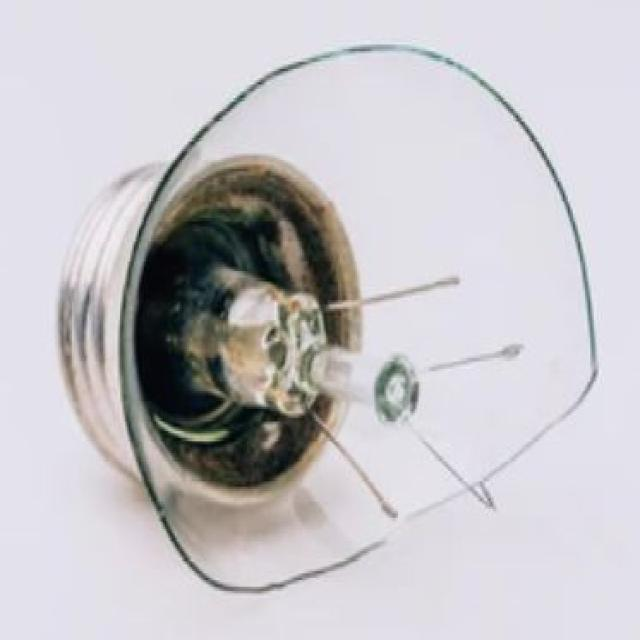electronic: (55, 40, 599, 593), (372, 354, 419, 424)
